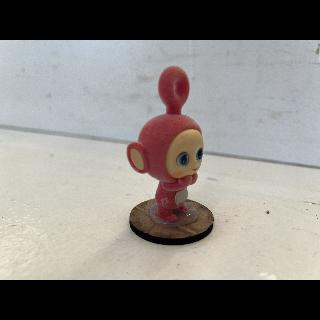teletubby: (127, 66, 203, 222)
